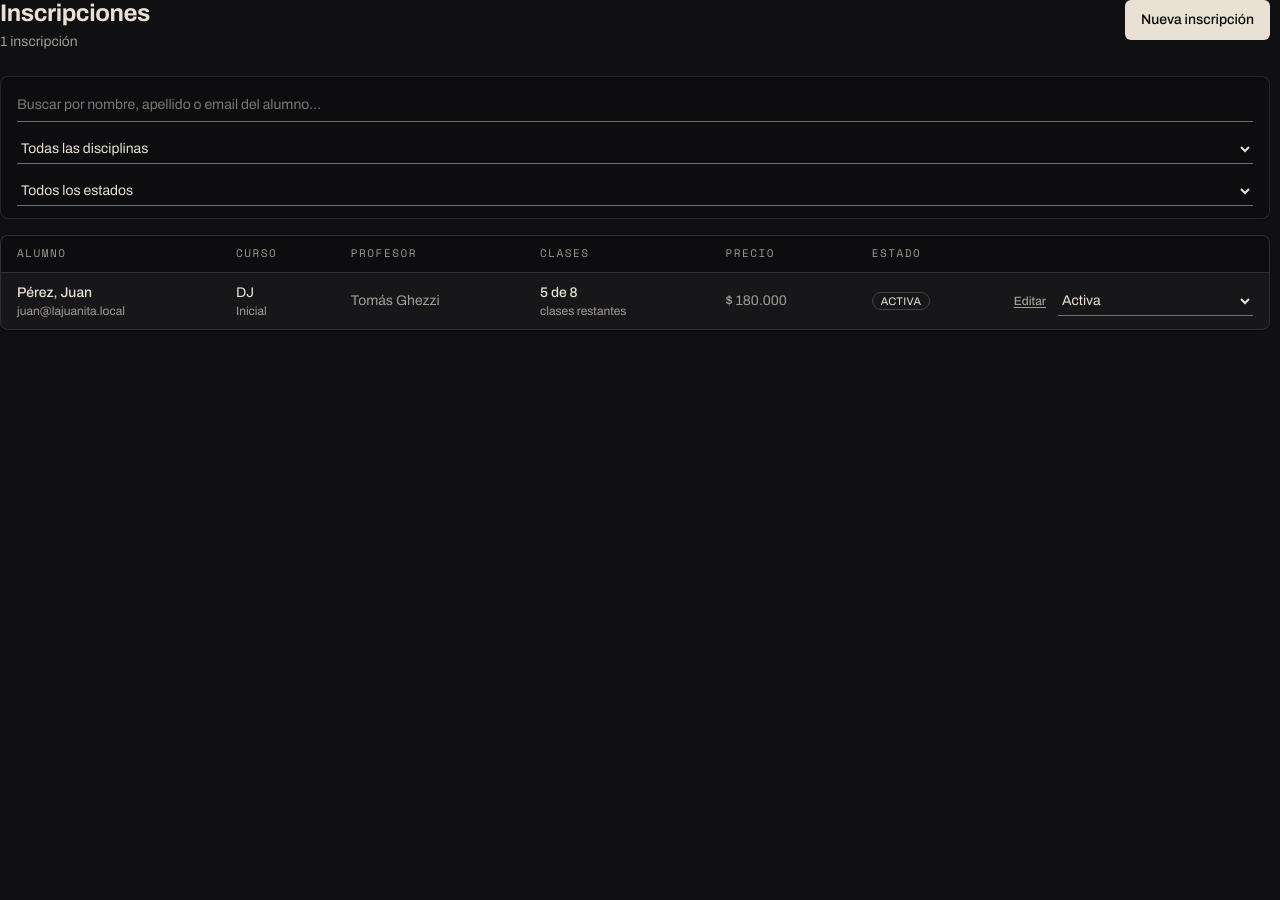
las clases de fábrica del curso (§13, P34 — desde V28, del catálogo) › elegir Producción completa las 16
Click the button "Nueva inscripción".
click(1197, 20)  # box [1125,0,1270,40]
(page scrolled)
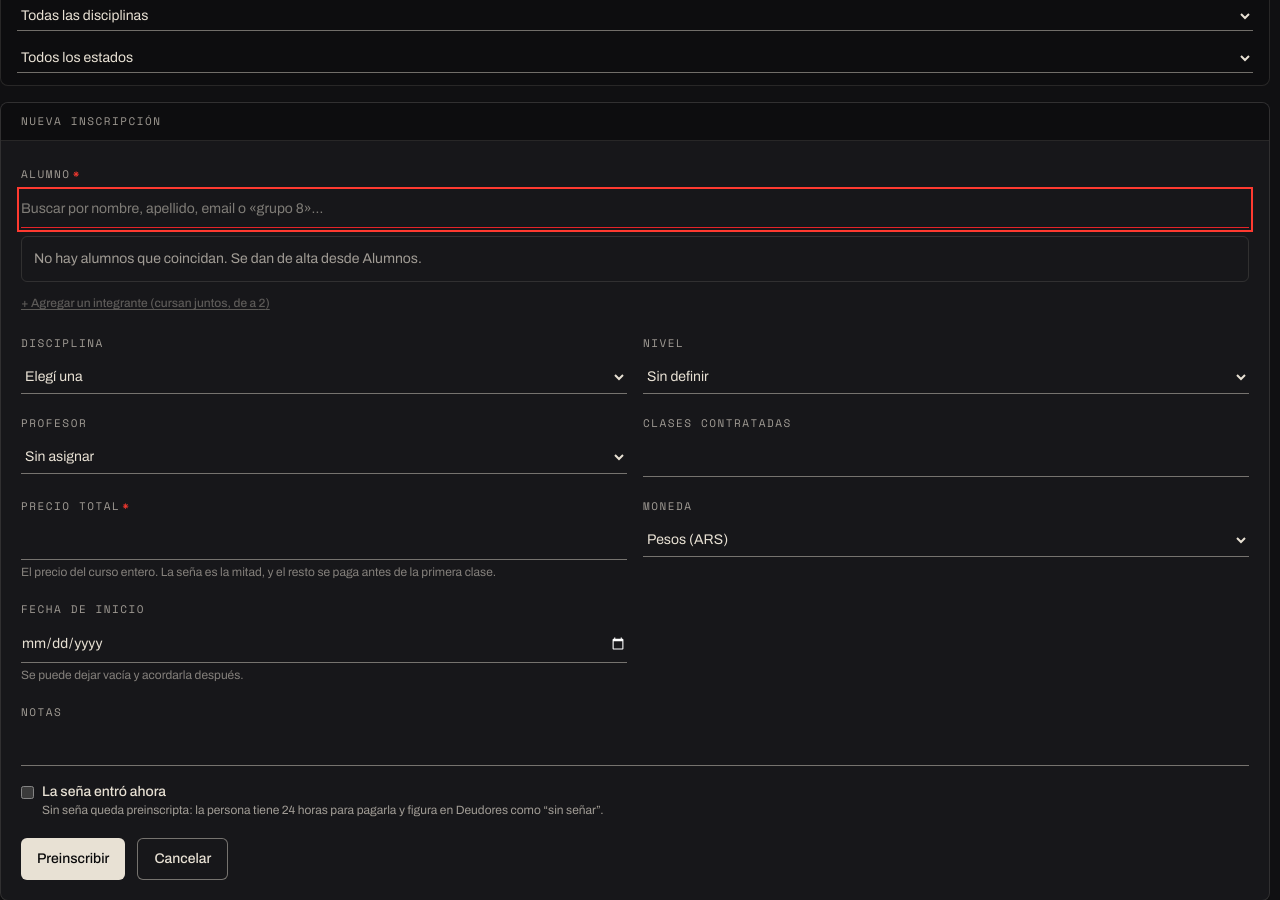
Select "Producción" in the dropdown labelled "Disciplina" at point(324, 377), box [21,360,627,394]
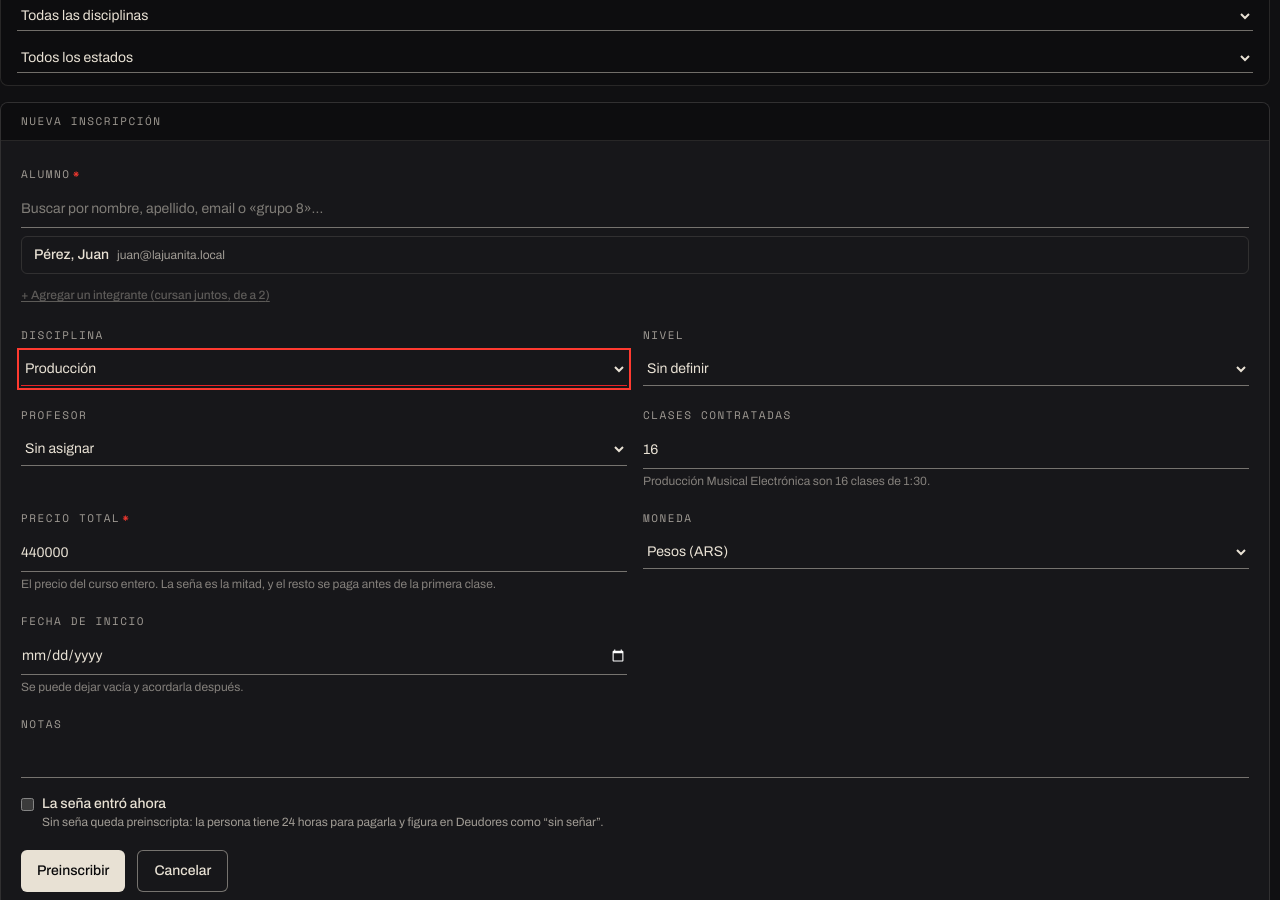
Now the number field labelled "Clases contratadas" holds "16", box [643,432,1249,469]
